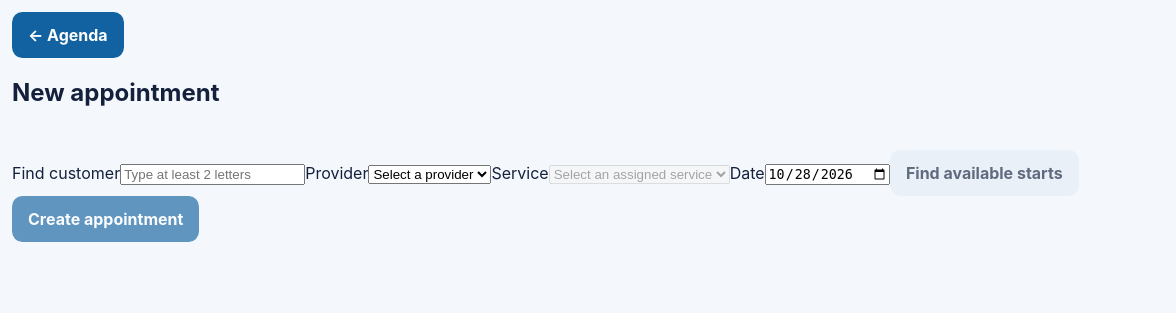
Test: AppointmentsPage › searches active customers instead of loading a full dropdown
Type "ma" into the dropdown labelled "Find customer". click: (213,175)
box: top-left (120, 164), bottom-right (305, 185)
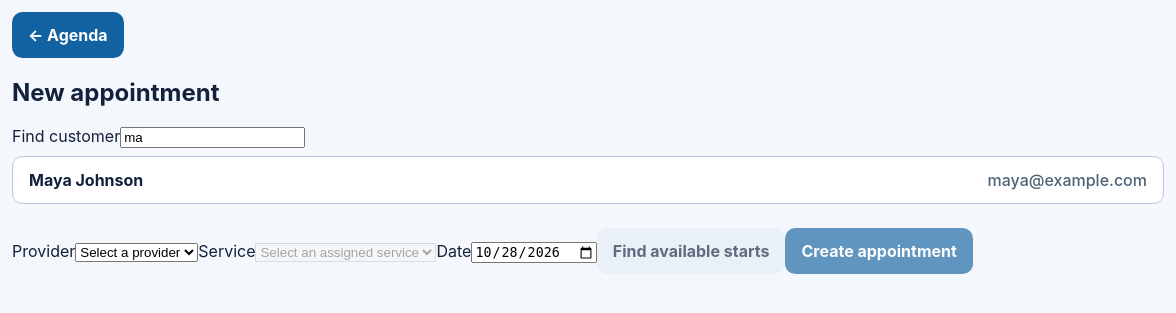
Now the option "Maya Johnson maya@example.com" is shown
Click the option "Maya Johnson maya@example.com". click: (86,180)
box: top-left (12, 156), bottom-right (1164, 204)
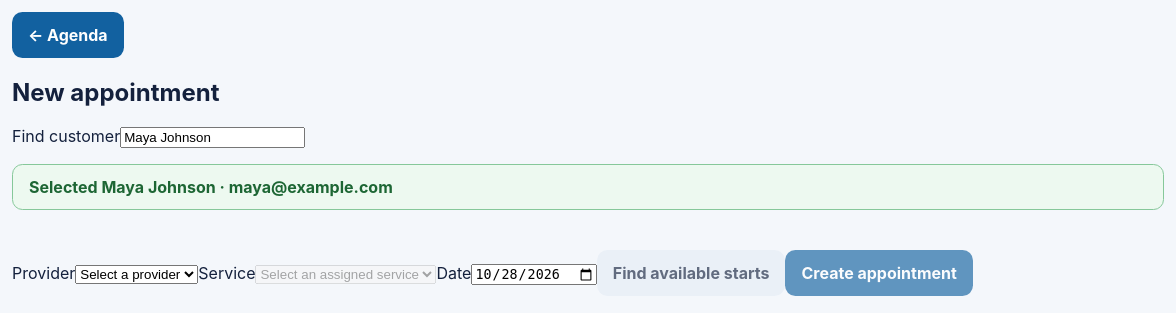
Now the message shows "Selected Maya Johnson", box top-left (12, 164), bottom-right (1164, 210)
